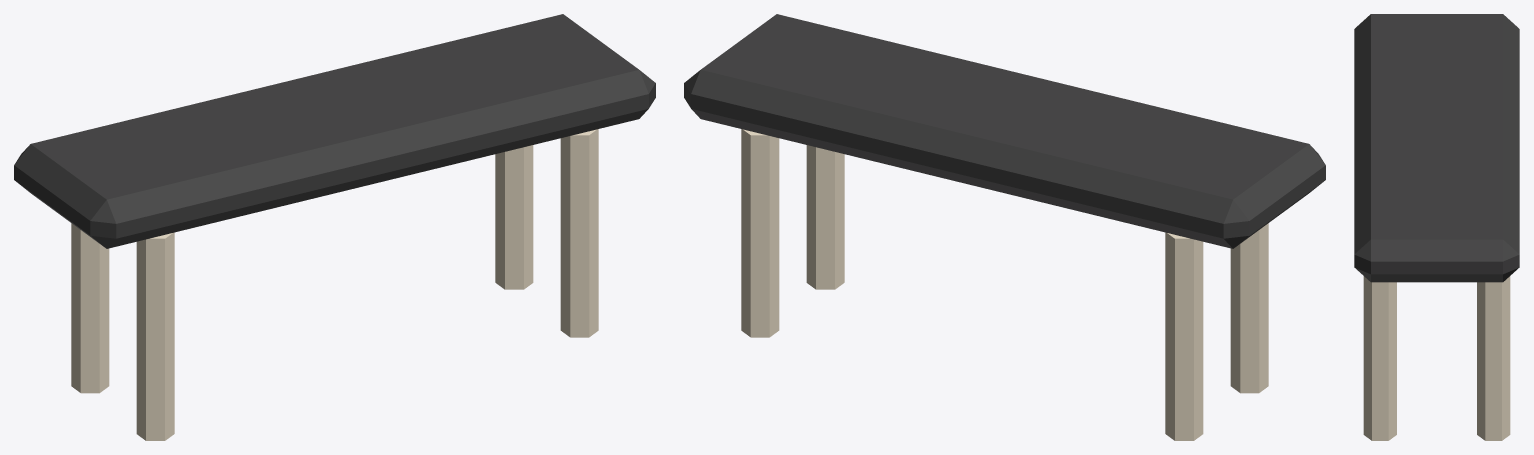
3 renders of one model, left to right at view 1: azimuth 30°, elevation 25°; view 2: azimuth 150°, elevation 25°; view 3: azimuth 270°, elevation 25°, orthographic. The views are drawn at different scales.
Visible parts, largest first — view 1: Cushion, Leg.002, Leg, Leg.001, Leg.003; view 2: Cushion, Leg.003, Leg.001, Leg, Leg.002; view 3: Cushion, Leg.002, Leg.003.
Part boxes in pixels (box(x1,y1,x2,y2)): Cushion: box(14, 14, 655, 248); Leg.002: box(560, 129, 598, 337); Leg: box(136, 232, 174, 440); Leg.001: box(71, 223, 109, 393); Leg.003: box(495, 145, 533, 289); Cushion: box(684, 14, 1325, 248); Leg.003: box(741, 129, 779, 337); Leg.001: box(1165, 232, 1203, 440); Leg: box(1230, 223, 1268, 393); Leg.002: box(806, 145, 844, 289); Cushion: box(1354, 14, 1519, 282); Leg.002: box(1363, 276, 1396, 440); Leg.003: box(1477, 276, 1510, 440).
Size of the model in its own units: 120 by 51 by 35.
